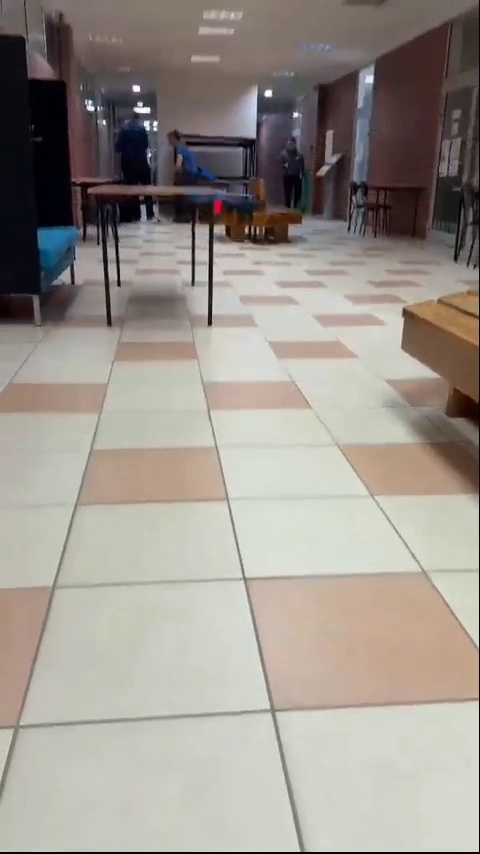drone: (179, 189, 253, 217)
no vest: (116, 111, 159, 225), (164, 126, 224, 189), (282, 129, 307, 216)
